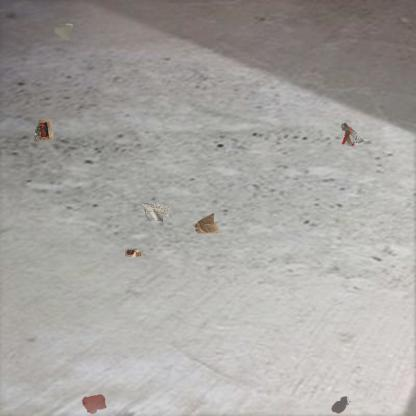dirty: (140, 200, 173, 225), (192, 212, 220, 236), (32, 117, 56, 144), (340, 121, 365, 146), (51, 22, 73, 40), (124, 247, 150, 259)
liquid: (80, 394, 108, 416), (330, 395, 352, 415)
